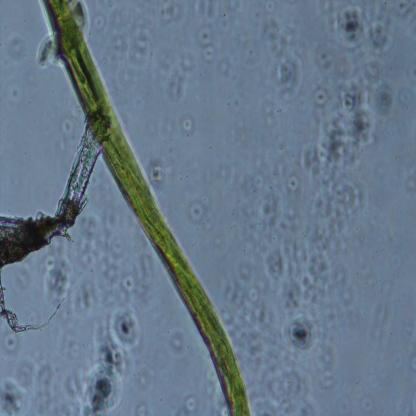Background material: (306, 7, 393, 228), (245, 236, 344, 414), (75, 216, 149, 315), (80, 302, 142, 416), (232, 152, 304, 244), (253, 0, 304, 100), (374, 295, 416, 373), (0, 288, 64, 332), (154, 50, 198, 98), (110, 27, 150, 68), (43, 242, 70, 301), (0, 369, 27, 414), (392, 61, 416, 105), (185, 195, 212, 231), (159, 0, 188, 26), (0, 332, 26, 360), (198, 25, 216, 63), (35, 35, 55, 69), (395, 168, 416, 199), (146, 157, 166, 186), (394, 1, 416, 23), (177, 114, 196, 136), (4, 82, 23, 104), (170, 329, 185, 356), (182, 396, 200, 414), (92, 12, 106, 31)
Cellulose filter fibre: (0, 124, 101, 284)
Microfibre: (43, 1, 251, 415)
